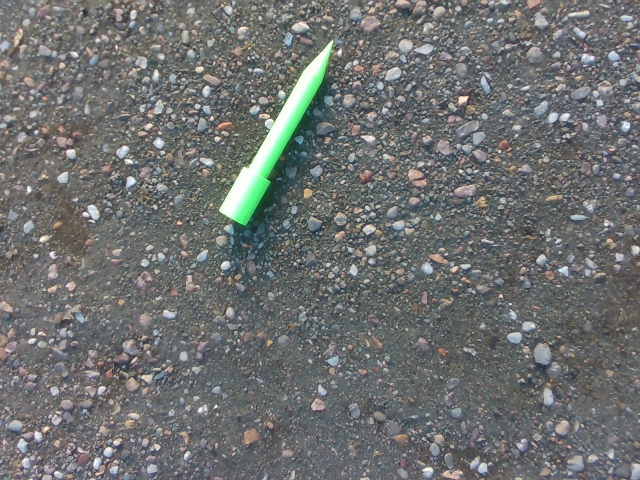Probe: (215, 33, 338, 227)
